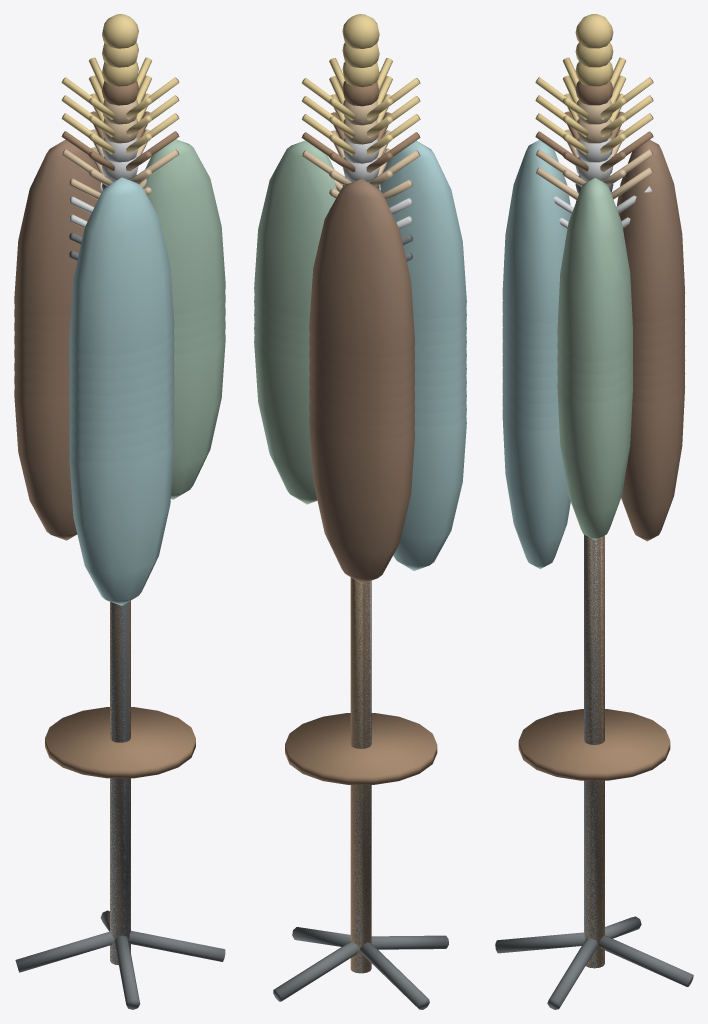
File: Gear13.fbx
3 views of the same model, side by side, from view 1: azimuth 30°, elevation 25°; view 2: azimuth 150°, elevation 25°; view 3: azimuth 270°, elevation 25° (orthographic).
Parts seen in each view (by area): view 1: Gear13_V10_Blue, Gear13_V1_Blue, Gear13_V10_Leather, Gear13_V10_Sage, Gear13_V10_Walnut, Gear13_V1_Charcoal, Gear13_V3_Leather, Gear13_V6_Sage, Gear13_V7_Walnut, Gear13_V2_Charcoal, Gear13_V10_Brass, Gear13_V9_Brass (+23 smaller); view 2: Gear13_V10_Leather, Gear13_V10_Walnut, Gear13_V3_Leather, Gear13_V10_Sage, Gear13_V10_Blue, Gear13_V1_Charcoal, Gear13_V1_Blue, Gear13_V6_Sage, Gear13_V6_Oak, Gear13_V10_Brass, Gear13_V5_Oak, Gear13_V7_Walnut (+23 smaller); view 3: Gear13_V10_Walnut, Gear13_V10_Sage, Gear13_V10_Blue, Gear13_V10_Leather, Gear13_V1_Charcoal, Gear13_V6_Sage, Gear13_V1_Blue, Gear13_V3_Leather, Gear13_V7_Walnut, Gear13_V5_Oak, Gear13_V10_Brass, Gear13_V6_Oak (+22 smaller).
Boxes of the visible parts, bbox=[...] form: Gear13_V10_Blue: bbox=[69, 177, 174, 356]; Gear13_V1_Blue: bbox=[69, 438, 174, 605]; Gear13_V10_Leather: bbox=[14, 139, 100, 317]; Gear13_V10_Sage: bbox=[138, 139, 225, 314]; Gear13_V10_Walnut: bbox=[45, 604, 195, 963]; Gear13_V1_Charcoal: bbox=[15, 250, 225, 1009]; Gear13_V3_Leather: bbox=[14, 387, 77, 540]; Gear13_V6_Sage: bbox=[170, 332, 225, 499]; Gear13_V7_Walnut: bbox=[61, 80, 179, 964]; Gear13_V2_Charcoal: bbox=[69, 175, 136, 964]; Gear13_V10_Brass: bbox=[61, 14, 179, 119]; Gear13_V9_Brass: bbox=[61, 42, 179, 136]; Gear13_V10_Leather: bbox=[309, 179, 414, 358]; Gear13_V10_Walnut: bbox=[285, 577, 437, 972]; Gear13_V3_Leather: bbox=[309, 415, 414, 583]; Gear13_V10_Sage: bbox=[254, 140, 338, 318]; Gear13_V10_Blue: bbox=[380, 140, 466, 319]; Gear13_V1_Charcoal: bbox=[273, 252, 448, 1009]; Gear13_V1_Blue: bbox=[393, 416, 466, 570]; Gear13_V6_Sage: bbox=[254, 336, 317, 504]; Gear13_V6_Oak: bbox=[301, 100, 420, 972]; Gear13_V10_Brass: bbox=[301, 14, 420, 120]; Gear13_V5_Oak: bbox=[329, 119, 412, 973]; Gear13_V7_Walnut: bbox=[301, 81, 420, 969]; Gear13_V10_Walnut: bbox=[518, 536, 670, 967]; Gear13_V10_Sage: bbox=[557, 178, 632, 361]; Gear13_V10_Blue: bbox=[502, 140, 571, 323]; Gear13_V10_Leather: bbox=[616, 140, 685, 322]; Gear13_V1_Charcoal: bbox=[495, 200, 693, 1009]; Gear13_V6_Sage: bbox=[557, 379, 632, 540]; Gear13_V1_Blue: bbox=[502, 409, 570, 568]; Gear13_V3_Leather: bbox=[621, 380, 685, 541]; Gear13_V7_Walnut: bbox=[535, 80, 653, 959]; Gear13_V5_Oak: bbox=[535, 118, 653, 968]; Gear13_V10_Brass: bbox=[535, 14, 653, 119]; Gear13_V6_Oak: bbox=[535, 99, 653, 965].
Bounding box in the file's own units: 45.35 × 222 × 41.87.
